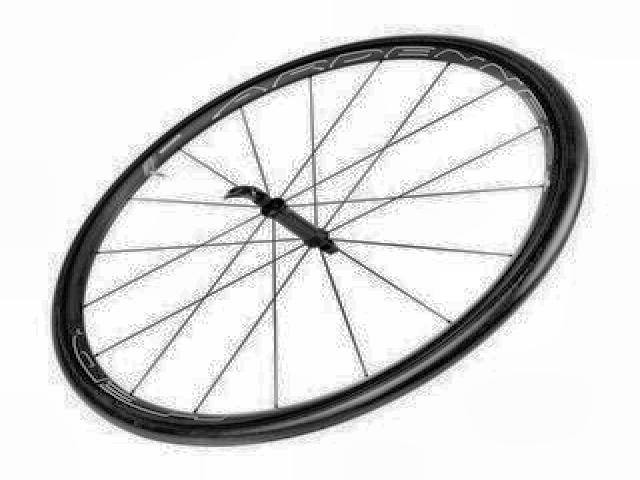wheel: (41, 32, 597, 456)
